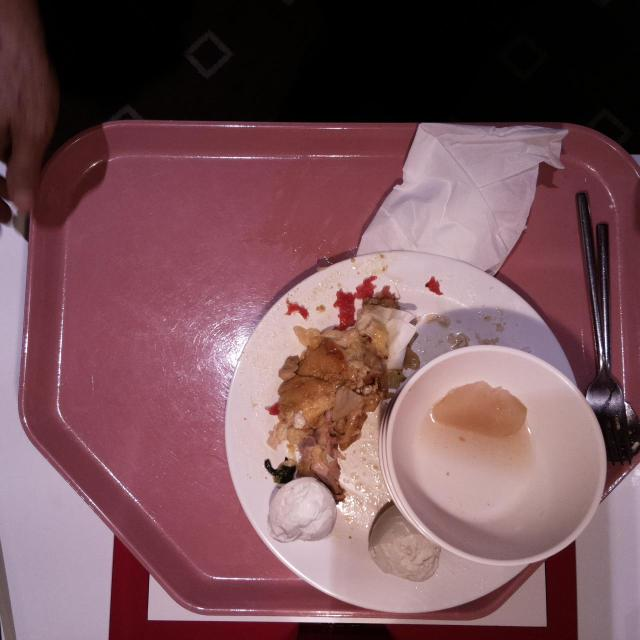Egg-shell: (368, 501, 442, 583), (268, 474, 338, 544)
Meat: (276, 337, 352, 422)
